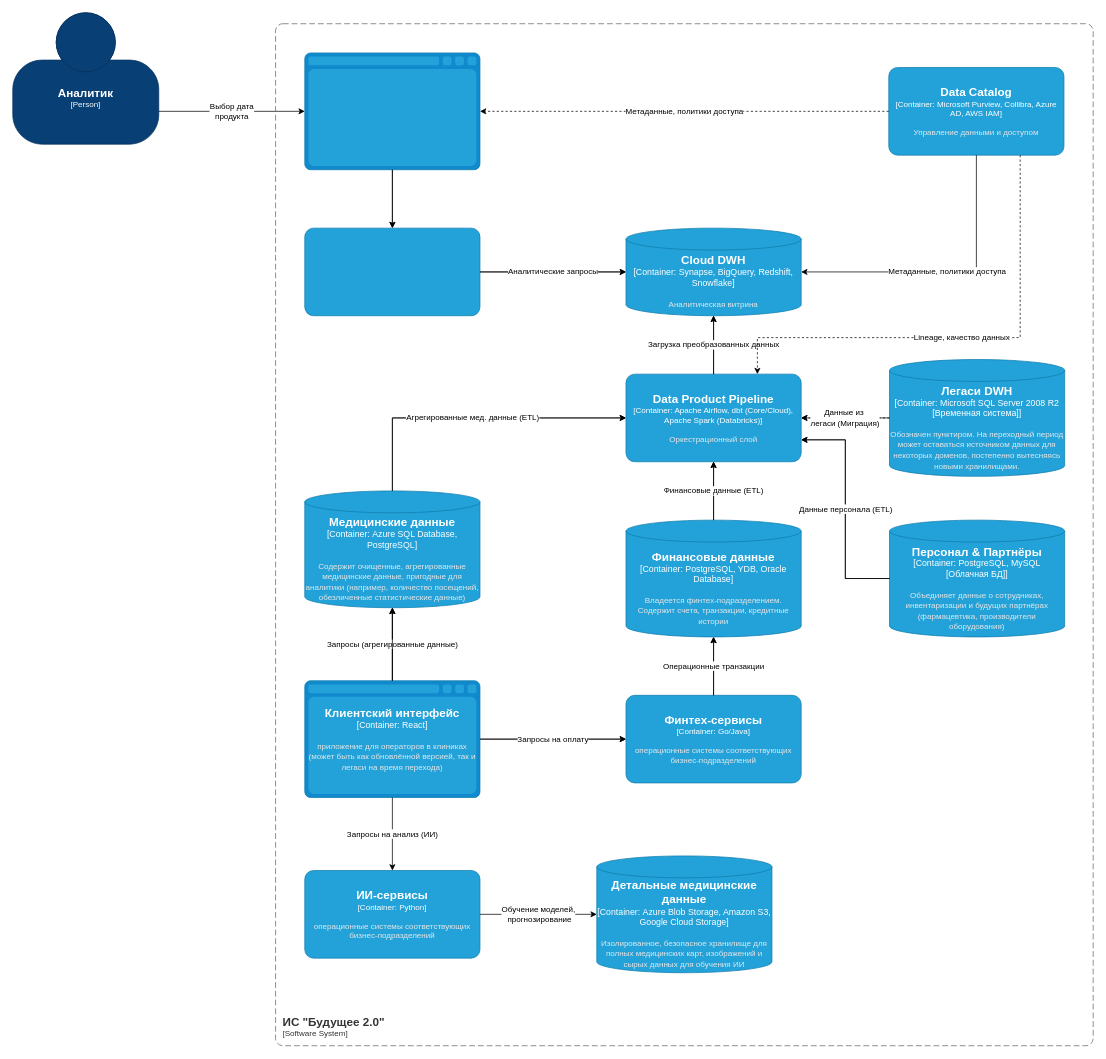
The diagram is 1106 pixels wide and 1059 high, and some of its shapes have lost their labels. The centre of each missing label's shape, as x and y in pixels:
"BI-система [Container: Power BI] используется аналитиками для построения отчётов" goes at (392,271).
"Data Marketplace [Container: React] Портал самообслуживания" goes at (392,111).
